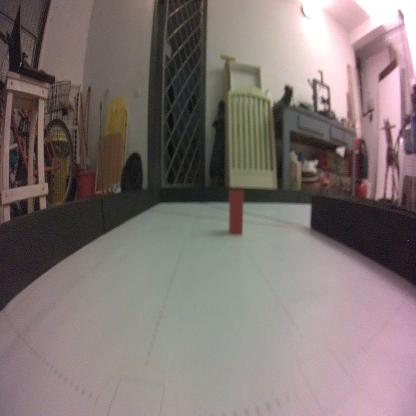red: (228, 188, 245, 236)
